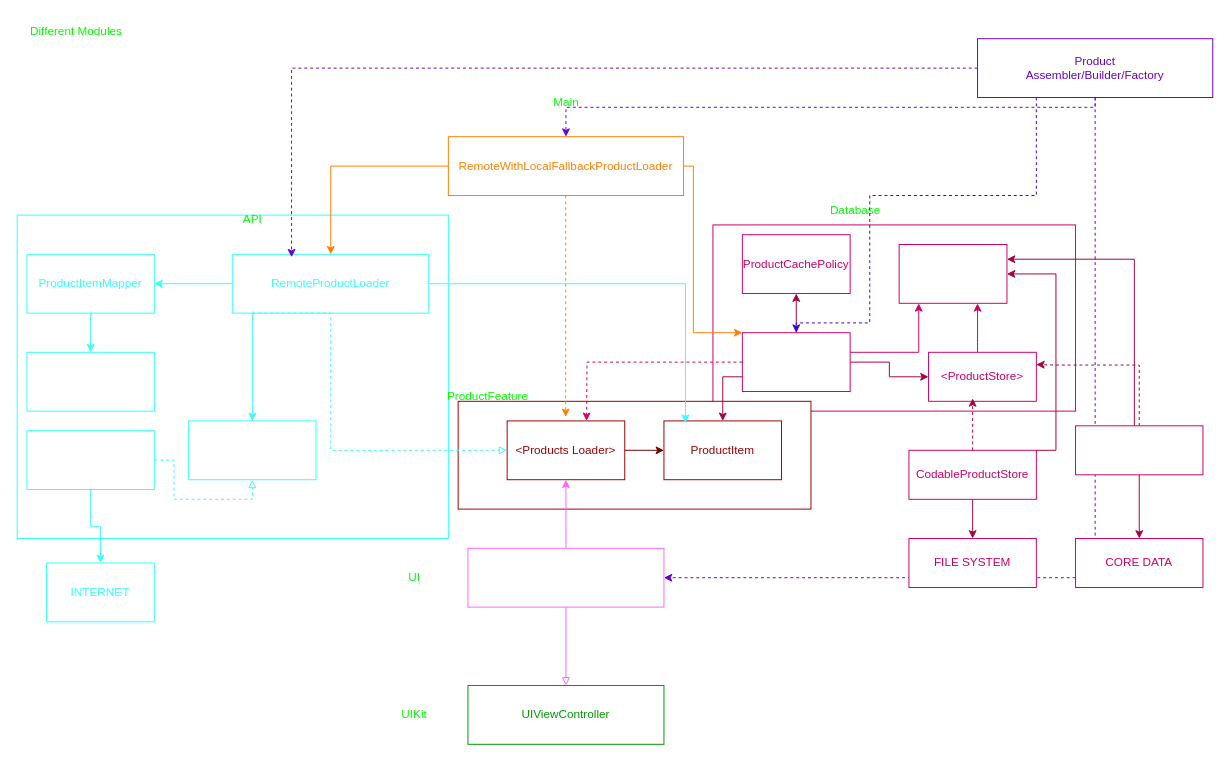
Image size: 1230x761. Some labels were removed from this diagram. Each missing label, with the centre of its shape:
<HTTPClient>: point 252,450
CoreDataProductStore: point 1139,450
LocalProductItem: point 952,273
LocalProductLoader: point 795,362
ProductViewController: point 565,577
RemoteProductItem: point 90,381
URLSession HTTPClient: point 90,460
